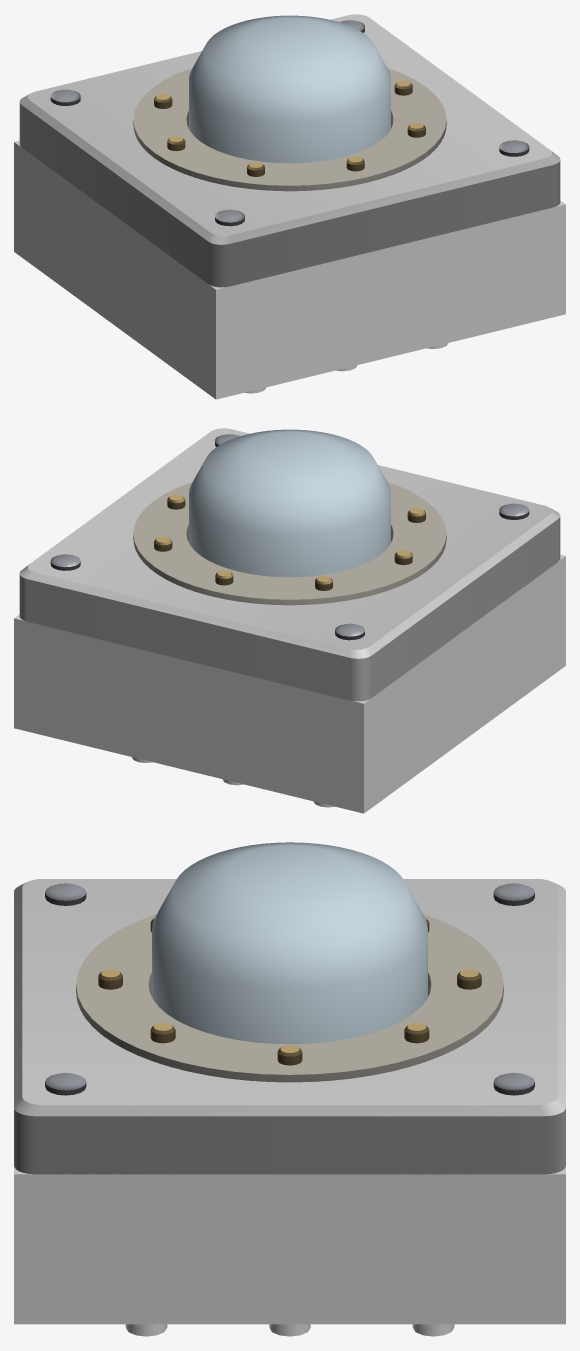
Rendered from part_amplifier_tube.glb.
3 views of the same model, one above another, from view 1: azimuth 30°, elevation 25°; view 2: azimuth 150°, elevation 25°; view 3: azimuth 270°, elevation 25° (orthographic). The views are drawn at different scales.
Visible parts, largest first — view 1: Gehaeuse, Plattform, Glas, Korpus; view 2: Gehaeuse, Plattform, Glas, Korpus; view 3: Plattform, Gehaeuse, Glas, Korpus, Stecker.
Part boxes in pixels (x1,y1,x2,y2): Gehaeuse: (14,140,565,399); Plattform: (19,14,560,287); Glas: (189,15,390,163); Korpus: (50,20,529,226); Gehaeuse: (14,554,565,813); Plattform: (19,428,560,701); Glas: (189,429,390,577); Korpus: (50,434,529,640); Plattform: (14,879,565,1174); Gehaeuse: (14,1166,565,1324); Glas: (152,842,427,1044); Korpus: (45,883,534,1095); Stecker: (125,1324,454,1336).
Bounding box in the file's own units: 0.8 × 0.638 × 0.8.
